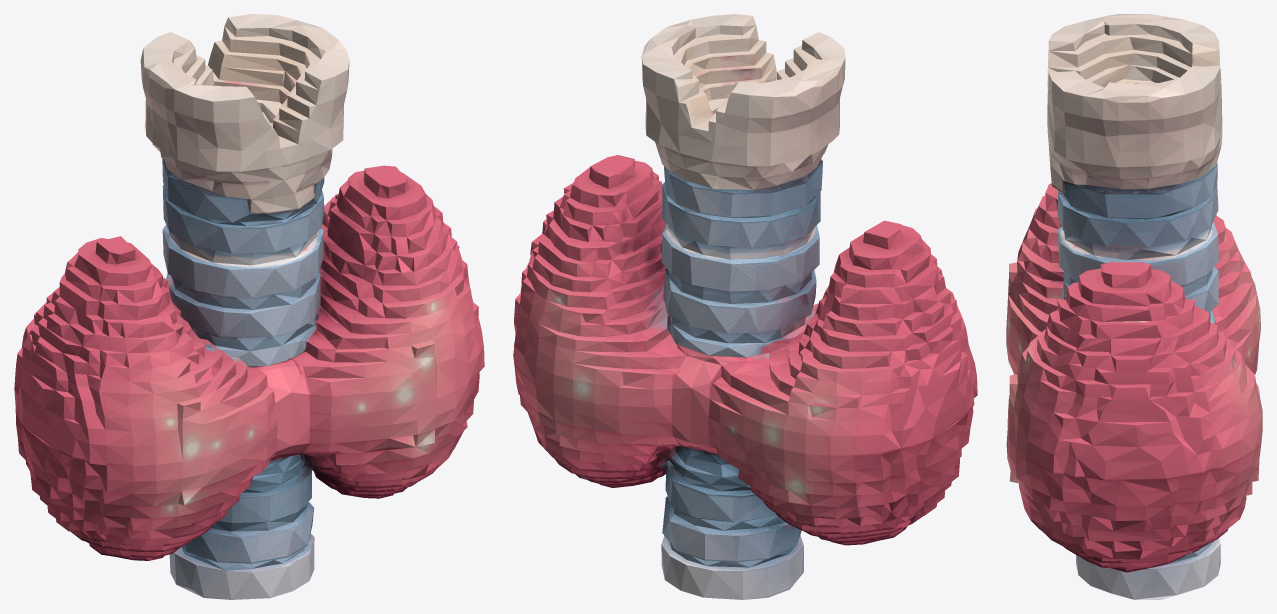
3 views of the same model, side by side, from view 1: azimuth 30°, elevation 25°; view 2: azimuth 150°, elevation 25°; view 3: azimuth 270°, elevation 25° (orthographic).
Parts seen in each view (by area): view 1: node_0; view 2: node_0; view 3: node_0.
Part boxes in pixels (x1=…): node_0: x1=14, y1=14, x2=484, y2=599; node_0: x1=513, y1=14, x2=977, y2=599; node_0: x1=1006, y1=14, x2=1262, y2=599.
Bounding box in the file's own units: 0.9623 × 1.14 × 0.5128.
1 material, 1 textured.
